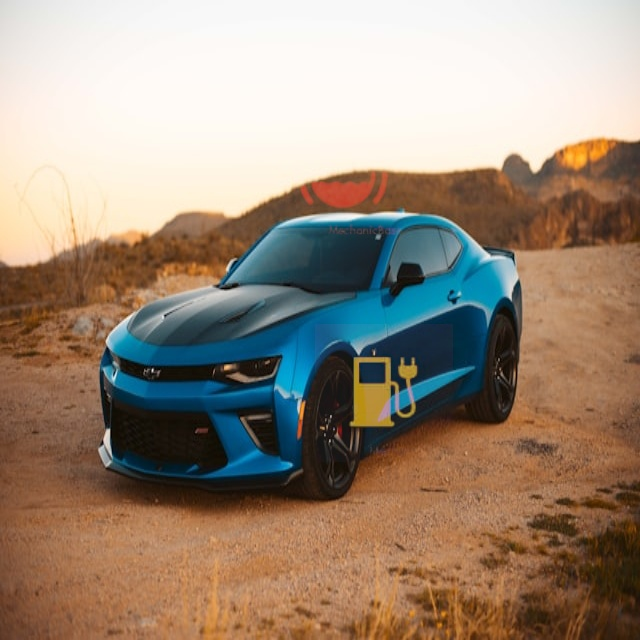symbol: (315, 324, 453, 462), (278, 112, 407, 241)
